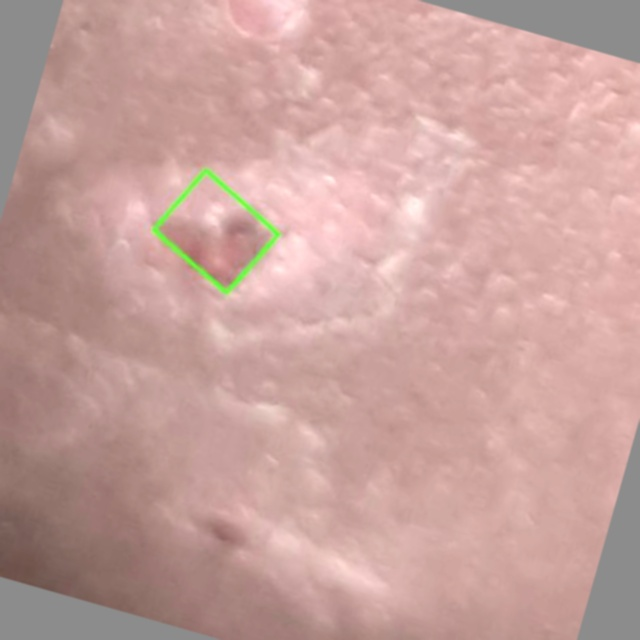Contact Dermatitis: (153, 170, 277, 293)
